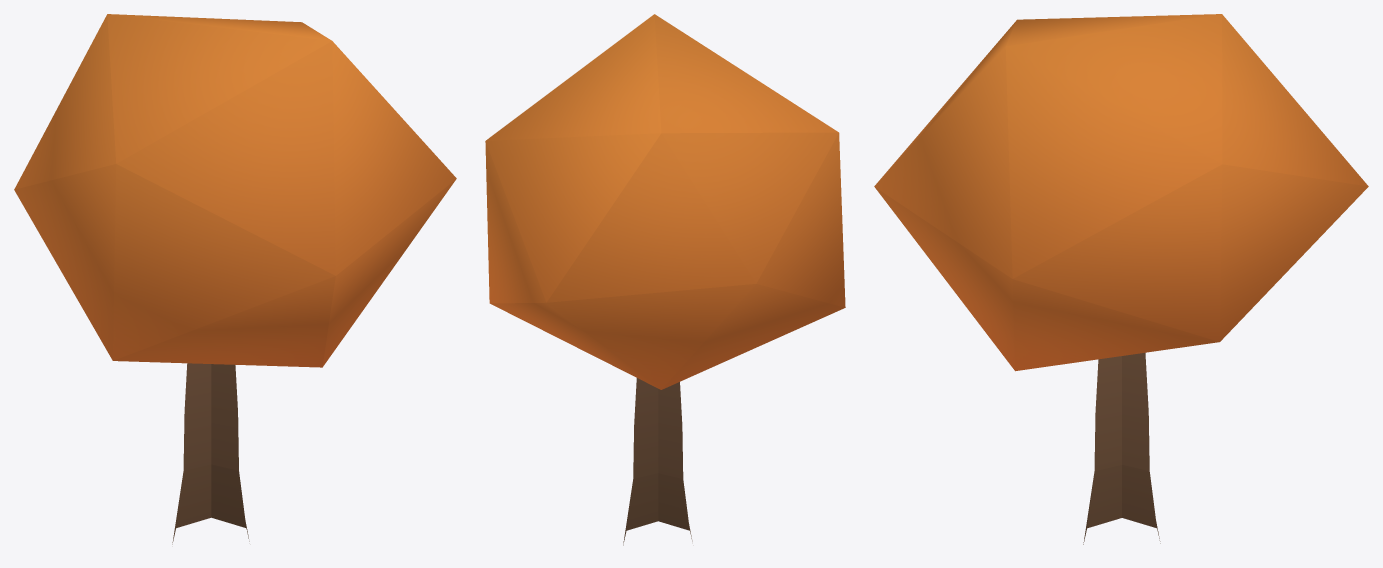
The model's file is autumn_tree_4.glb.
The picture shows the model from 3 angles, left to right: view 1: azimuth 30°, elevation 25°; view 2: azimuth 150°, elevation 25°; view 3: azimuth 270°, elevation 25°; orthographic projection. The views are drawn at different scales.
Visible parts, largest first — view 1: autumn_tree_4; view 2: autumn_tree_4; view 3: autumn_tree_4.
Boxes of the visible parts, x1,y1,x2,y2 form: autumn_tree_4: [14, 14, 456, 544]; autumn_tree_4: [485, 14, 845, 545]; autumn_tree_4: [874, 14, 1368, 544].
Size of the model in its own units: 2.54 by 3.7 by 3.19.
